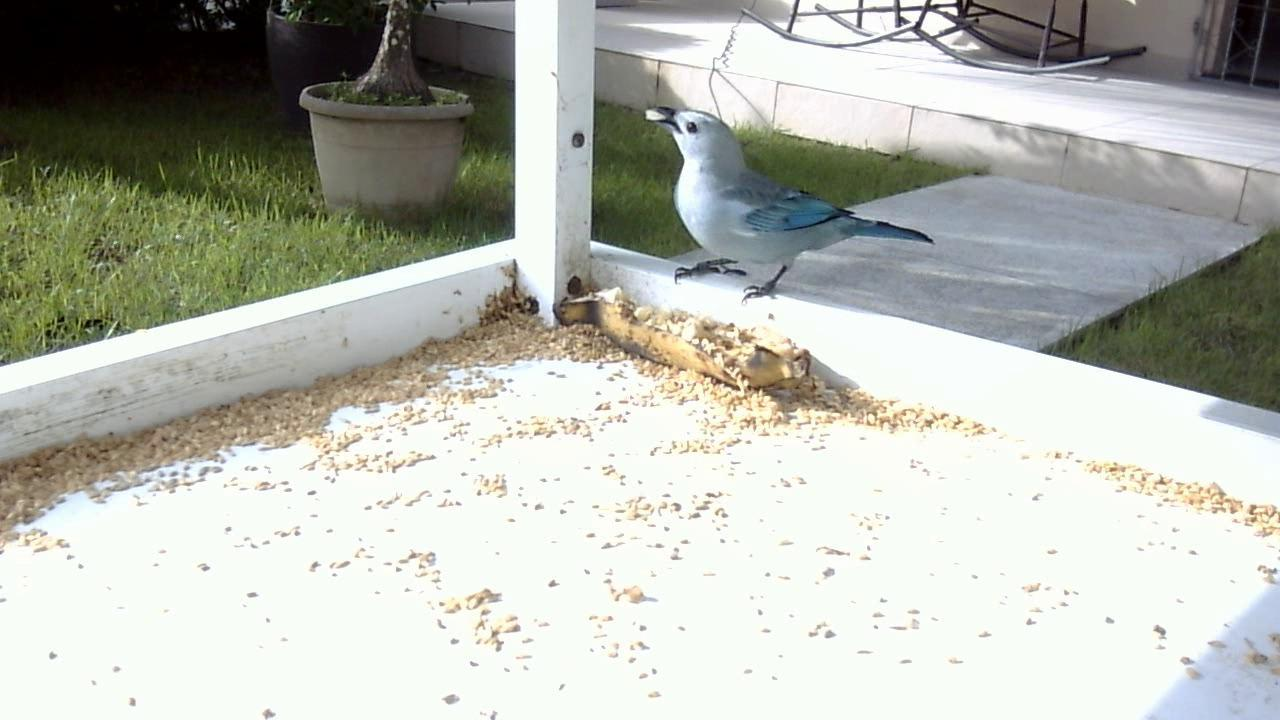sanhaco_da_amazonia: (635, 103, 942, 318)
